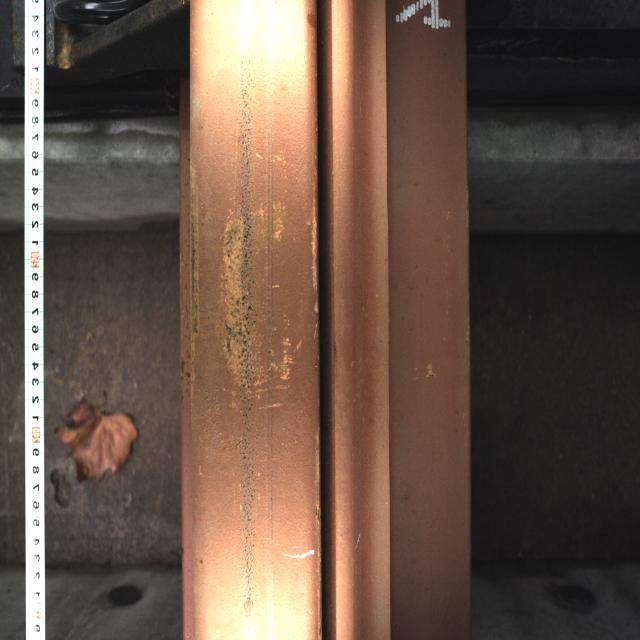scar: (206, 111, 309, 514)
